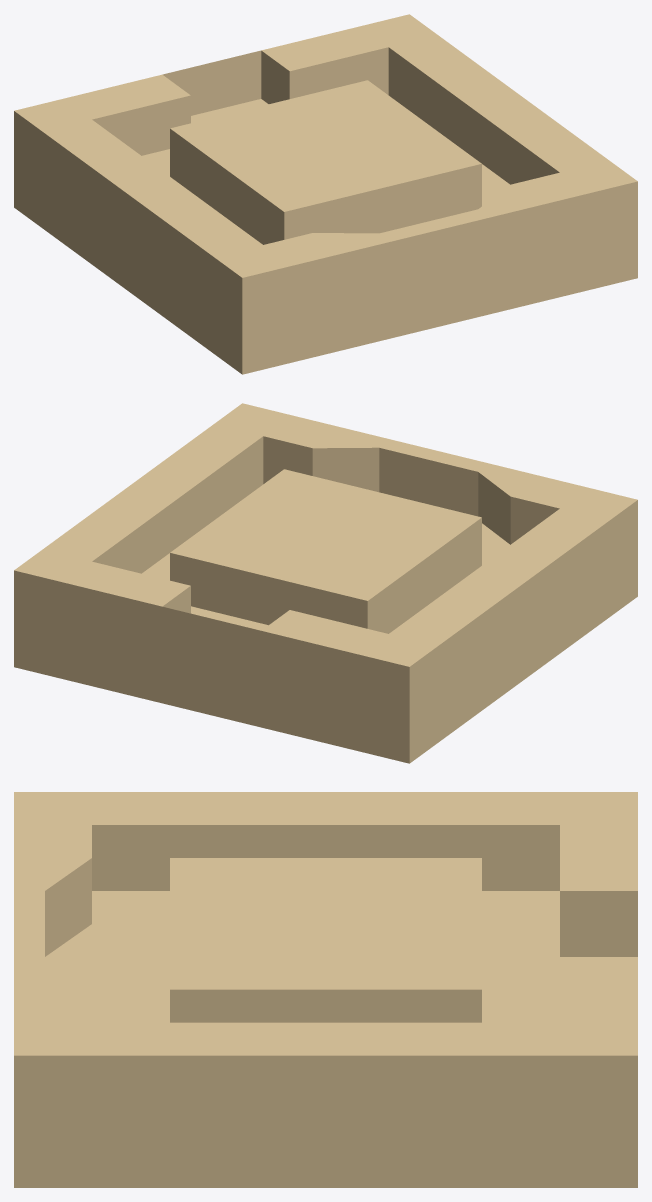
The model's file is maze map.fbx.
3 renders of one model, top to bottom at view 1: azimuth 30°, elevation 25°; view 2: azimuth 150°, elevation 25°; view 3: azimuth 270°, elevation 25°, orthographic. The views are drawn at different scales.
Parts seen in each view (by area): view 1: Cube; view 2: Cube; view 3: Cube.
Part boxes in pixels (x1,y1,x2,y2): Cube: [14, 14, 637, 374]; Cube: [14, 403, 637, 763]; Cube: [14, 792, 637, 1187].
Bounding box in the file's own units: 3992 × 933 × 3993.
